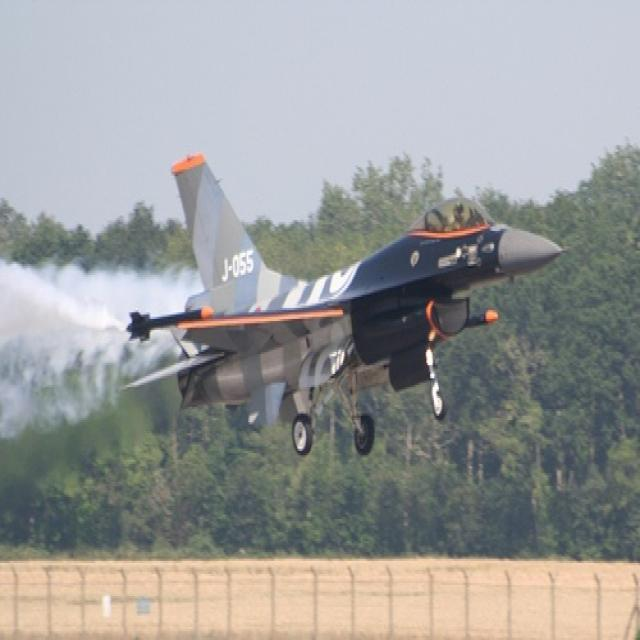aeroplane: (110, 135, 567, 461)
